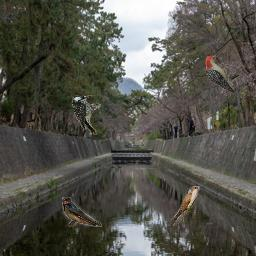Cuckoo: (168, 186, 200, 226)
Swallow: (62, 197, 102, 227)
Woodpecker: (204, 52, 239, 92), (72, 95, 101, 135)
